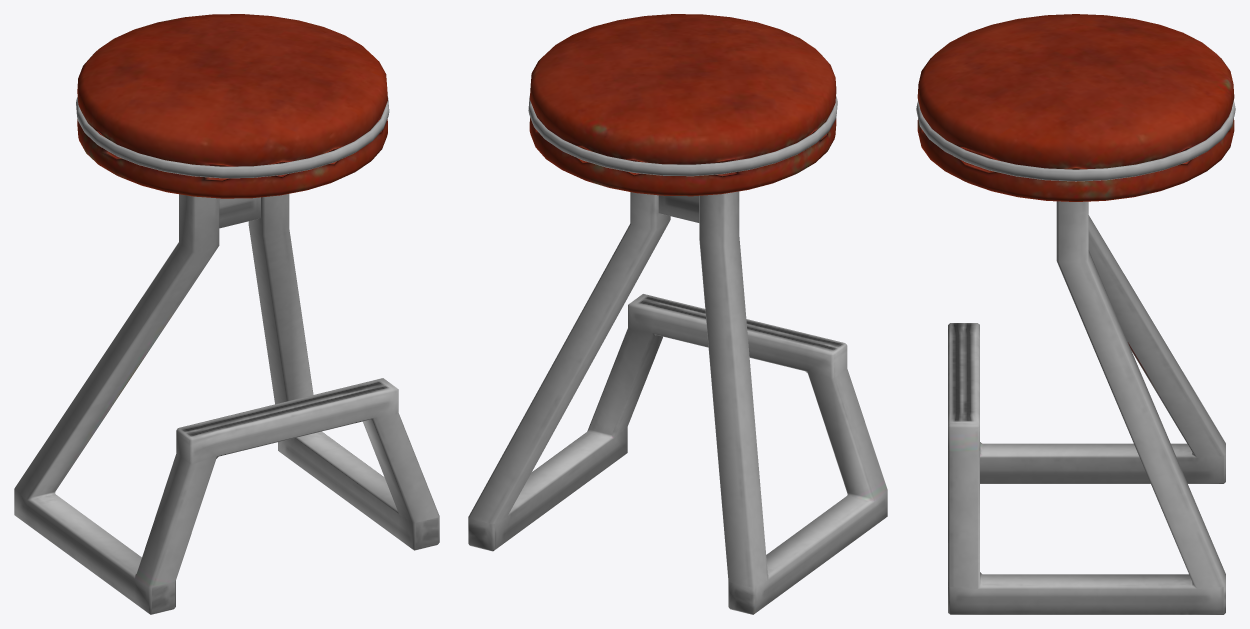
File: Nexus_barStool_pref.fbx
3 views of the same model, side by side, from view 1: azimuth 30°, elevation 25°; view 2: azimuth 150°, elevation 25°; view 3: azimuth 270°, elevation 25° (orthographic). The views are drawn at different scales.
Parts seen in each view (by area): view 1: BarStool.004; view 2: BarStool.004; view 3: BarStool.004.
Part boxes in pixels (x1,y1,x2,y2): BarStool.004: (14,14,439,614); BarStool.004: (468,14,887,614); BarStool.004: (916,14,1235,614).
Size of the model in its own units: 47.34 by 73.14 by 44.17.
Materials: 1 (1 with a texture image).
